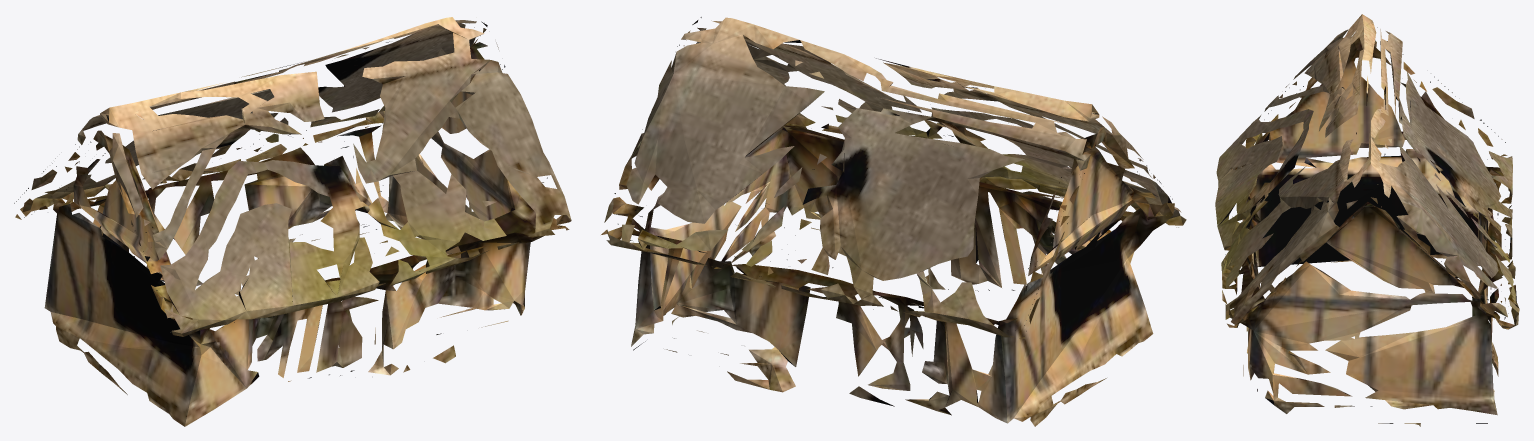
The model's file is ga3_house2_t2_lod1.glb.
3 views of the same model, side by side, from view 1: azimuth 30°, elevation 25°; view 2: azimuth 150°, elevation 25°; view 3: azimuth 270°, elevation 25° (orthographic). The views are drawn at different scales.
Parts seen in each view (by area): view 1: ga3_house2_t2_lod1; view 2: ga3_house2_t2_lod1; view 3: ga3_house2_t2_lod1.
Part boxes in pixels (x1=…): ga3_house2_t2_lod1: x1=14, y1=17, x2=571, y2=426; ga3_house2_t2_lod1: x1=601, y1=17, x2=1186, y2=426; ga3_house2_t2_lod1: x1=1215, y1=14, x2=1519, y2=426.
Size of the model in its own units: 7.88 by 5.25 by 5.72.
Materials: 1 (1 with a texture image).
